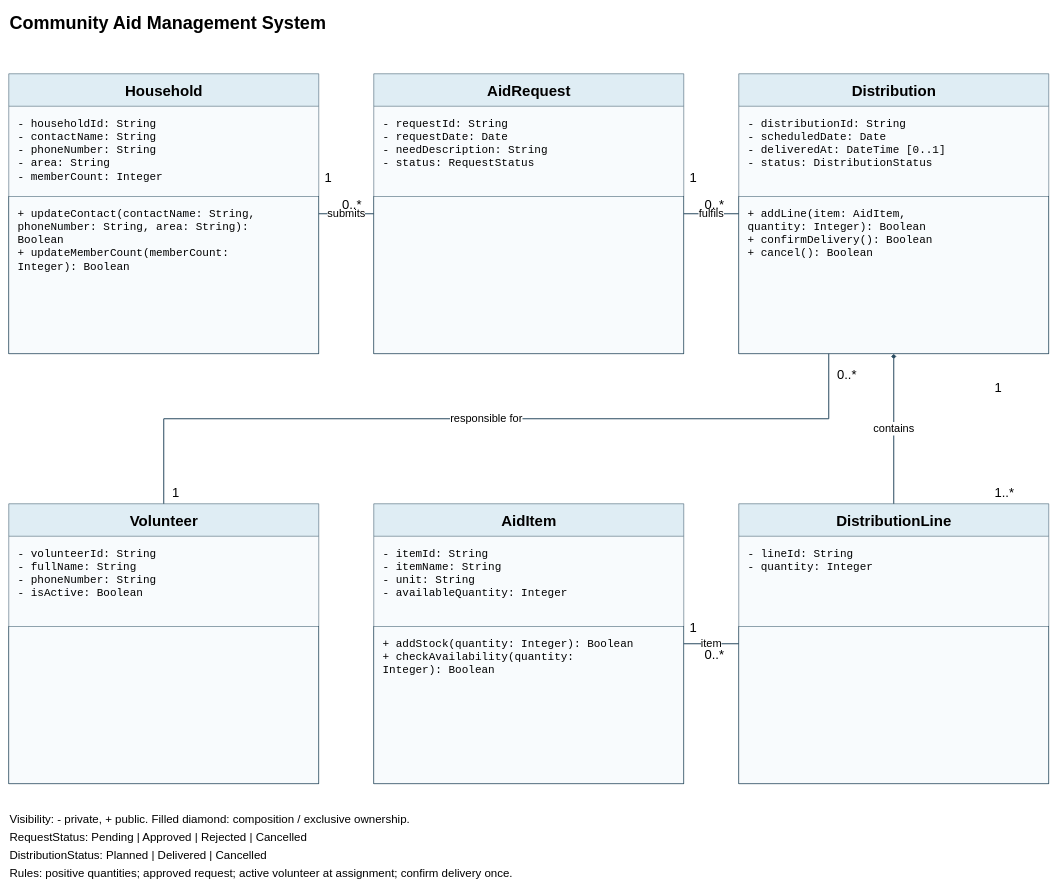
This 1058x889 diagram has some shape labels left out. The centre of each missing label's shape, as x and y in pixels:
"+ approve(): Boolean + reject(): Boolean + cancel(): Boolean" belongs at pixel 528 275.
"+ updateContact(phoneNumber: String): Boolean + deactivate(): Void" belongs at pixel 163 705.
"+ updateQuantity(quantity: Integer): Boolean" belongs at pixel 893 705.
